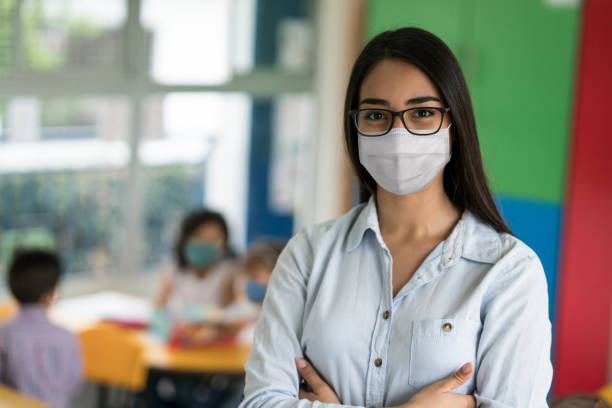with mask: (342, 39, 460, 209), (178, 216, 226, 274), (241, 253, 278, 308)
